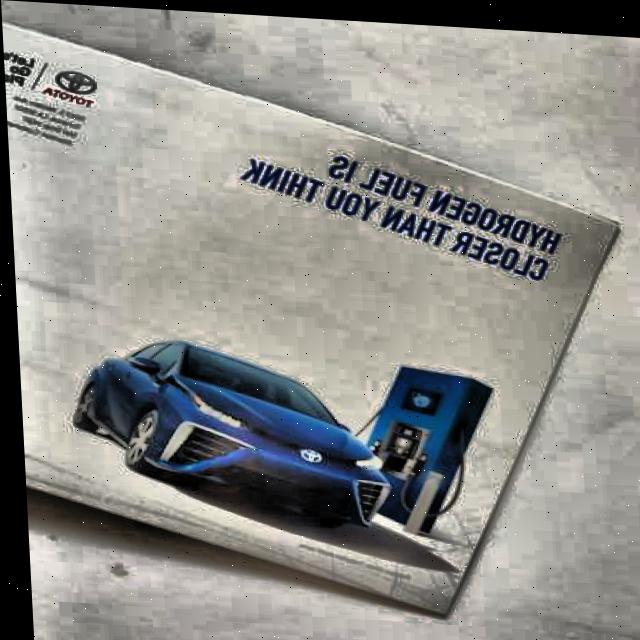paper: (1, 12, 637, 631)
